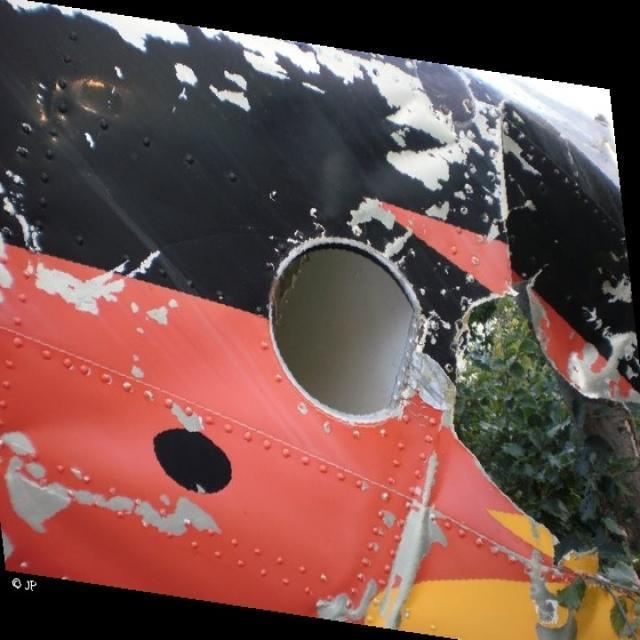dent: (266, 100, 390, 221), (1, 395, 155, 472)
